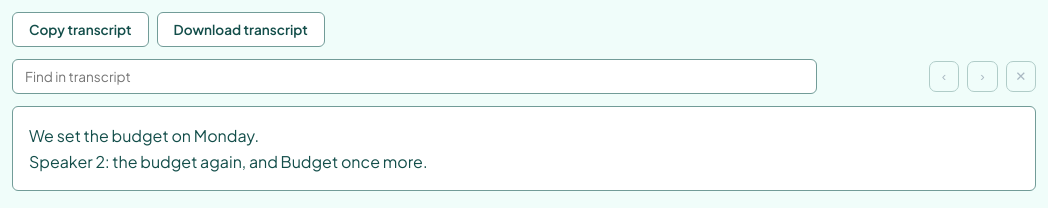
Test: 52-A: wraps backwards from the first match to the last
This screenshot has width=1048, height=208.
Type "budget" into the field labelled "Find in transcript". click: (414, 76)
box: 12,59 -> 817,94
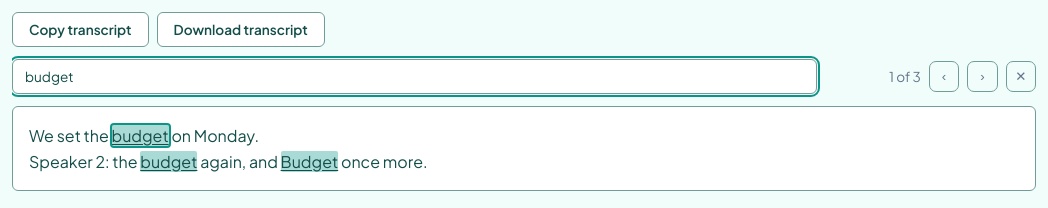
Click the button named "Previous match". click: (944, 76)
box: 929,61 -> 959,92
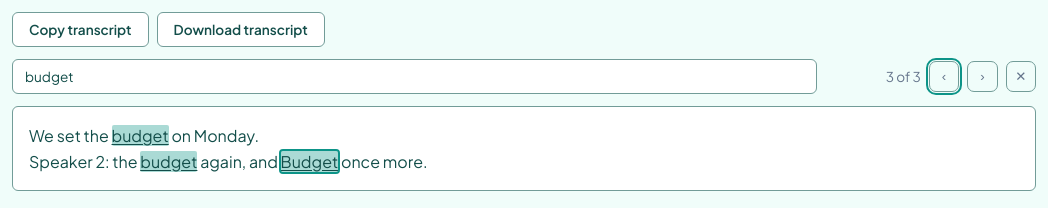
expect the message with test id "transcript-find-count" reads "3 of 3": met, box 886,68 -> 921,85
